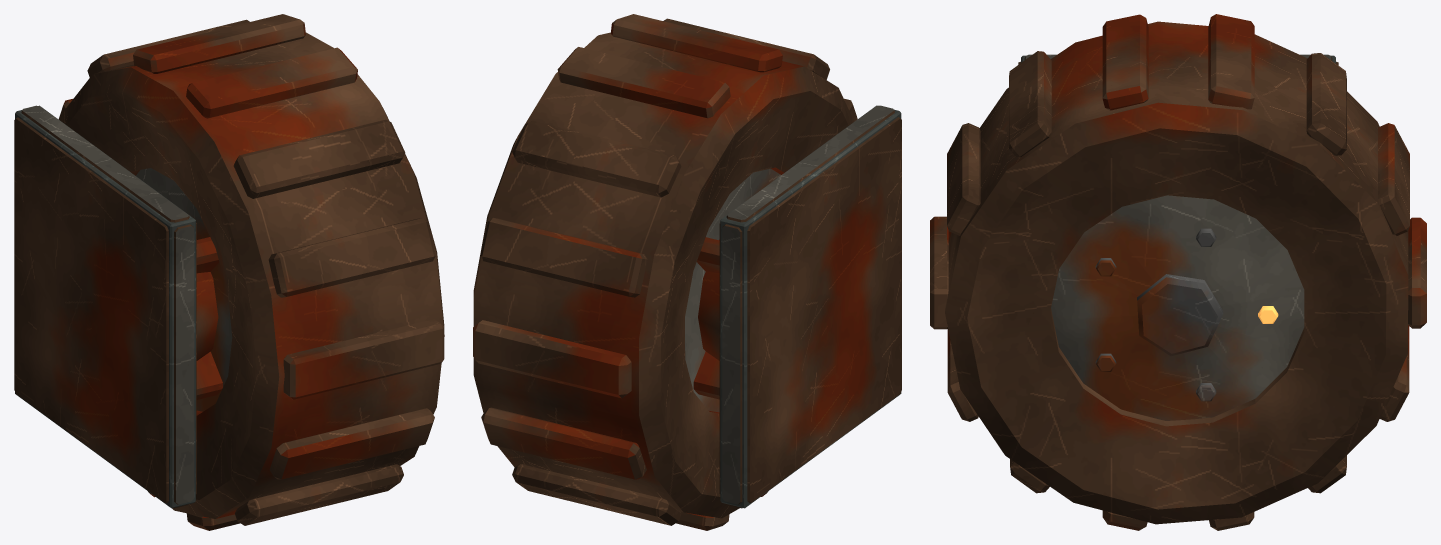
File: R4M_WheelM_Side_Offroad.glb
The picture shows the model from 3 angles, left to right: view 1: azimuth 30°, elevation 25°; view 2: azimuth 150°, elevation 25°; view 3: azimuth 270°, elevation 25°; orthographic projection.
Visible parts, largest first — view 1: R4M_WheelM_Side_Offroad_Rotor, R4M_WheelM_Side_Offroad_Mount; view 2: R4M_WheelM_Side_Offroad_Rotor, R4M_WheelM_Side_Offroad_Mount; view 3: R4M_WheelM_Side_Offroad_Rotor.
Part boxes in pixels (box(x1,y1,x2,y2)): R4M_WheelM_Side_Offroad_Rotor: box(58, 14, 444, 530); R4M_WheelM_Side_Offroad_Mount: box(14, 105, 222, 508); R4M_WheelM_Side_Offroad_Rotor: box(473, 14, 857, 530); R4M_WheelM_Side_Offroad_Mount: box(693, 105, 901, 508); R4M_WheelM_Side_Offroad_Rotor: box(930, 14, 1426, 530).
Bounding box in the file's own units: 0.452 × 0.7684 × 0.776.
5 materials, 4 textured.
